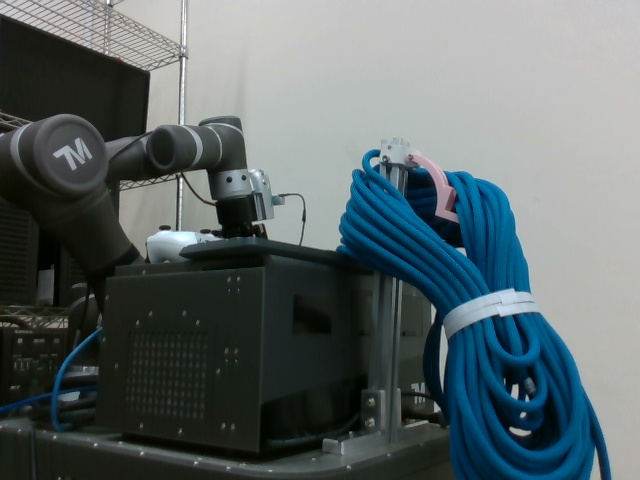rope: (337, 145, 620, 480)
